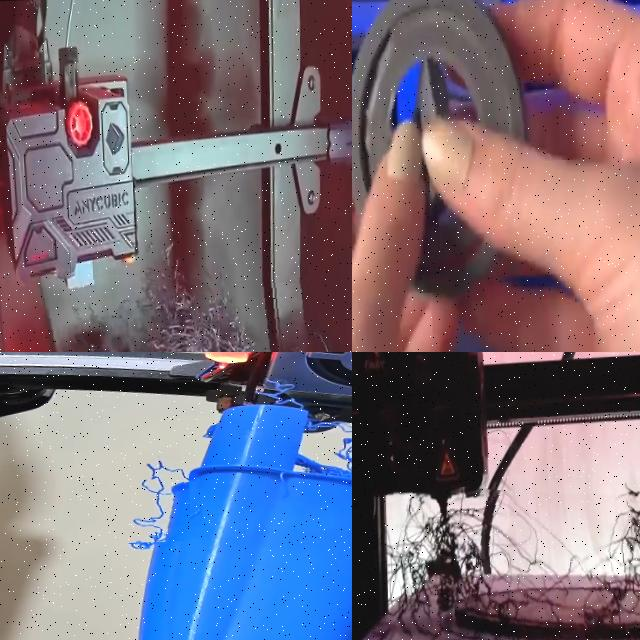spaghetti: (391, 473, 640, 640), (19, 257, 352, 352), (254, 375, 352, 499), (100, 444, 190, 544), (285, 425, 352, 487)
